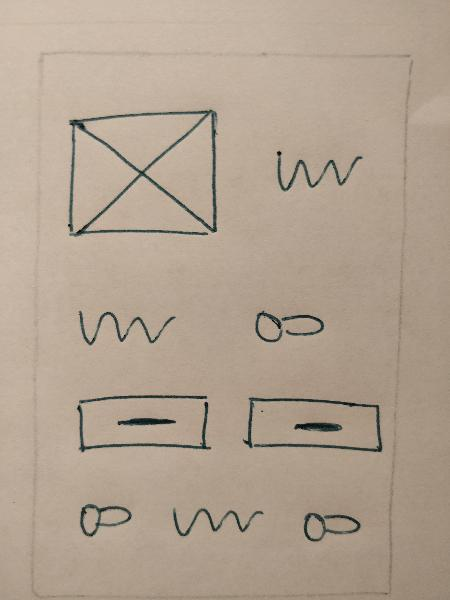button: (74, 384, 214, 461), (238, 386, 385, 459)
image: (63, 104, 225, 249)
switch: (245, 296, 334, 355), (283, 494, 372, 553), (64, 489, 153, 548)
text: (69, 297, 183, 358), (265, 139, 367, 200), (162, 495, 267, 549)
